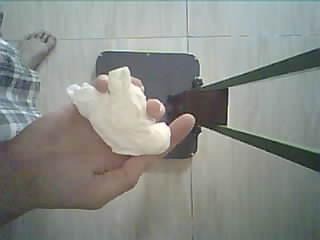paper: (67, 67, 170, 156)
